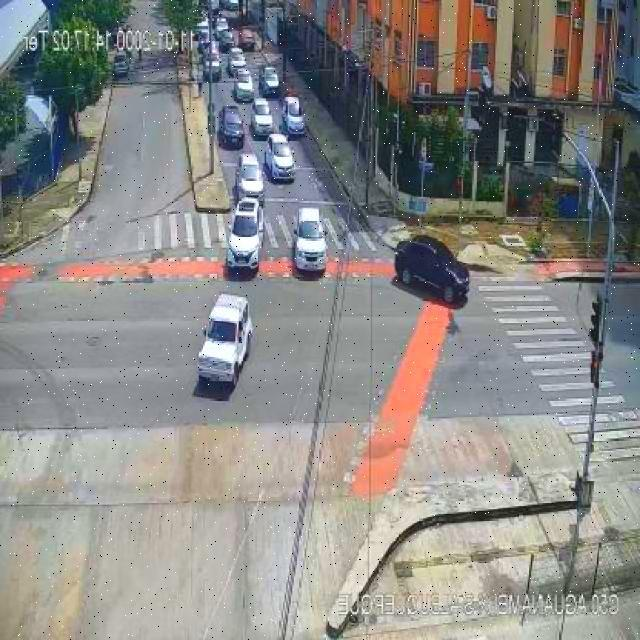Car: (195, 296, 253, 390), (393, 237, 470, 302), (224, 200, 266, 272), (292, 208, 327, 274), (236, 155, 266, 203), (264, 134, 294, 181), (218, 105, 244, 146), (281, 96, 306, 136), (250, 99, 274, 137), (258, 67, 280, 98), (233, 72, 255, 103), (202, 54, 222, 80), (112, 52, 130, 78), (228, 48, 246, 74), (240, 27, 258, 51), (218, 30, 236, 52)
